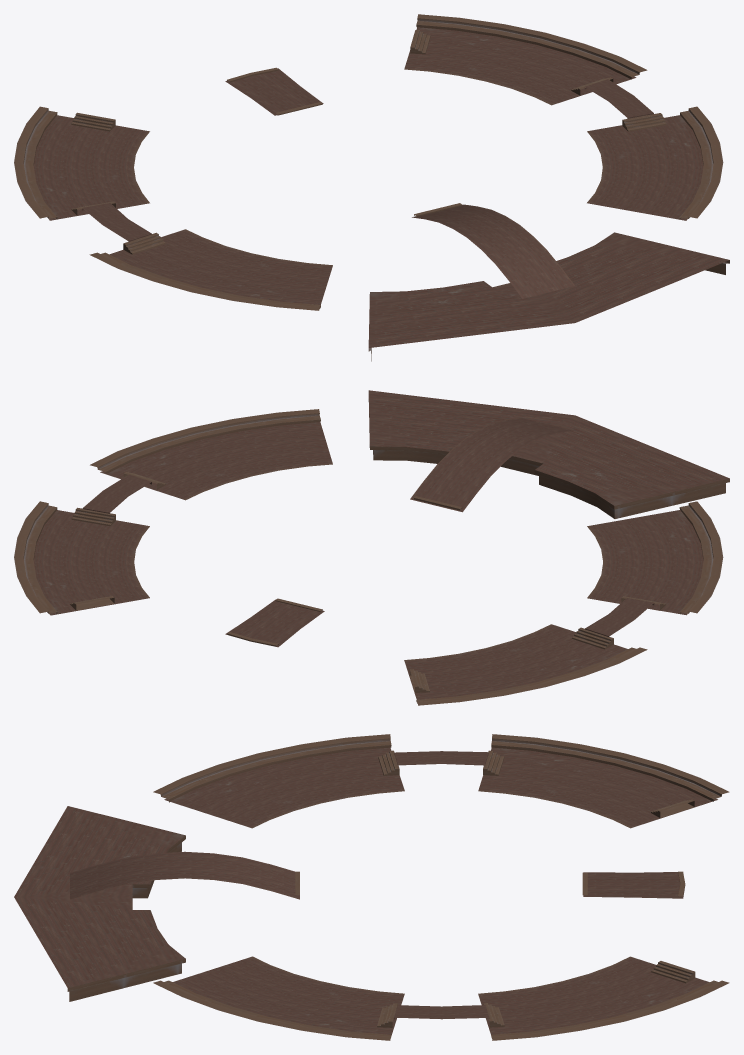
File: fb_jz_dimian_02.FBX
3 views of the same model, one above another, from view 1: azimuth 30°, elevation 25°; view 2: azimuth 150°, elevation 25°; view 3: azimuth 270°, elevation 25° (orthographic). The views are drawn at different scales.
Parts seen in each view (by area): view 1: fb_jz_dimian_02; view 2: fb_jz_dimian_02; view 3: fb_jz_dimian_02.
Boxes of the visible parts, x1,y1,x2,y2 form: fb_jz_dimian_02: (14, 14, 729, 361); fb_jz_dimian_02: (14, 390, 729, 705); fb_jz_dimian_02: (14, 734, 729, 1040).
Bounding box in the file's own units: 3365 × 244 × 3319.
